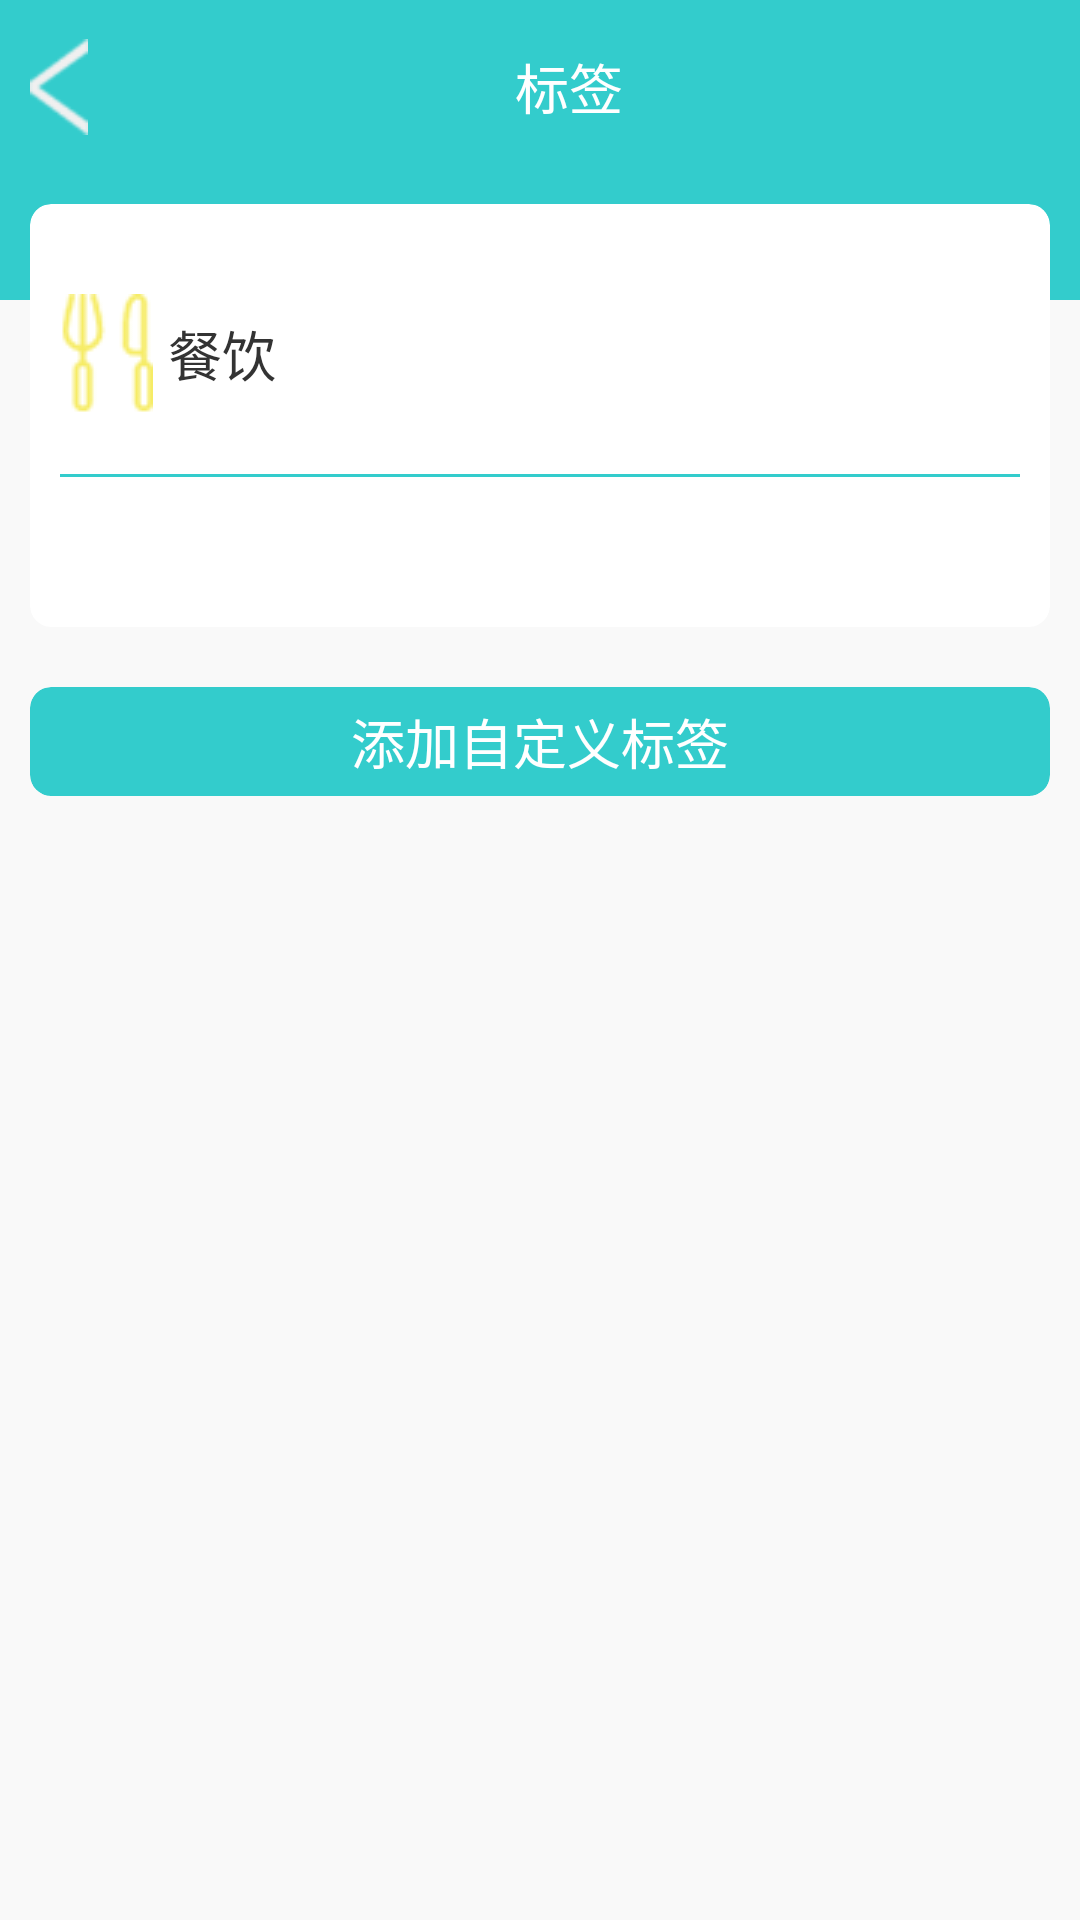

Where icons sit on this 1080 x 1920 app screen, as (x1, y1, x2, y2):
return bar: (30, 39, 88, 135)
